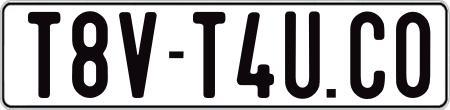0: (395, 9, 433, 100)
4: (237, 10, 275, 100)
8: (72, 9, 114, 101)
C: (349, 11, 389, 100)
T: (26, 9, 64, 99), (191, 10, 223, 98)
U: (282, 11, 318, 99)
V: (119, 11, 159, 103)
